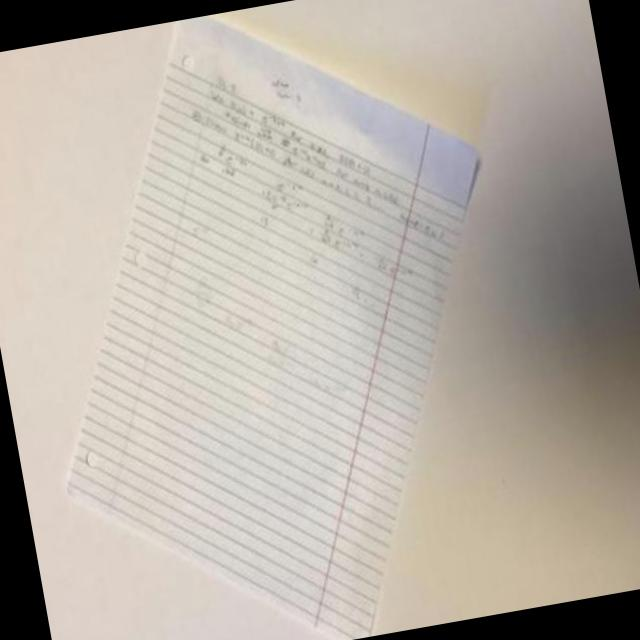cardboard paper: (67, 16, 477, 640)
